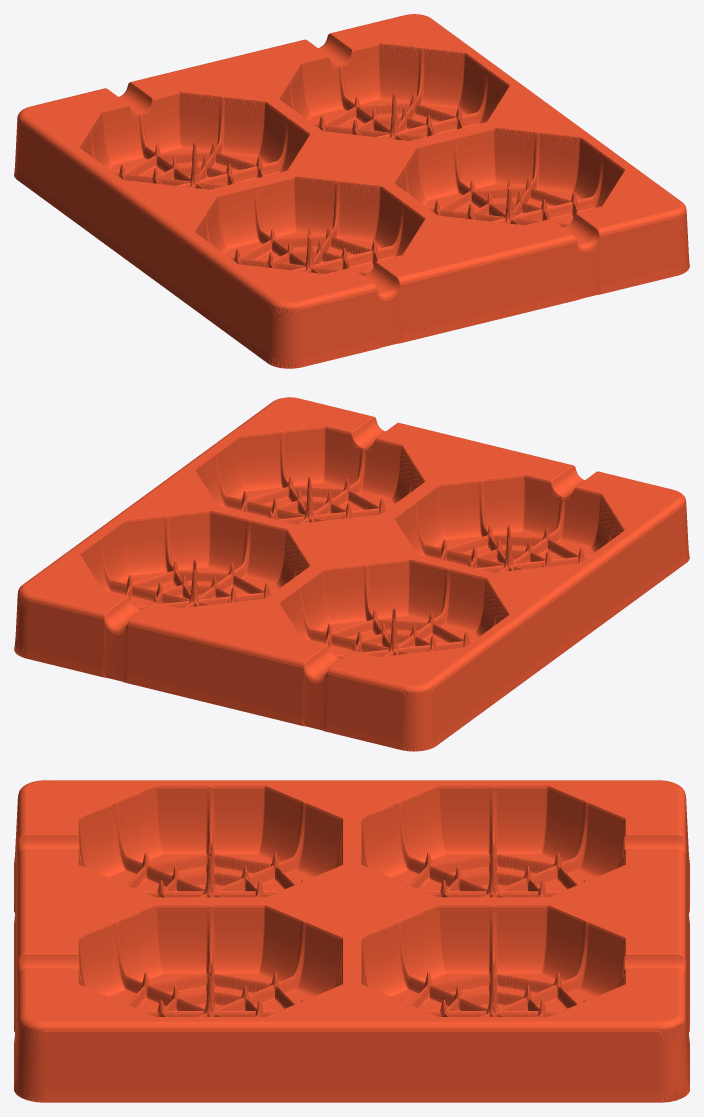
File: mold.glb
3 renders of one model, top to bottom at view 1: azimuth 30°, elevation 25°; view 2: azimuth 150°, elevation 25°; view 3: azimuth 270°, elevation 25°, orthographic. The views are drawn at different scales.
Parts seen in each view (by area): view 1: geometry_0; view 2: geometry_0; view 3: geometry_0.
Boxes of the visible parts, left/top/right/bottom form: geometry_0: left=14, top=14, right=689, bottom=368; geometry_0: left=14, top=397, right=689, bottom=751; geometry_0: left=14, top=780, right=689, bottom=1102.
Size of the model in its own units: 0.1726 by 0.0245 by 0.1968.
